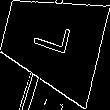L_W: (29, 20, 75, 63)
